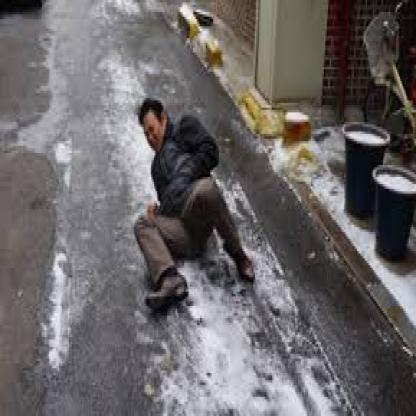Fall_Down: (132, 95, 262, 318)
